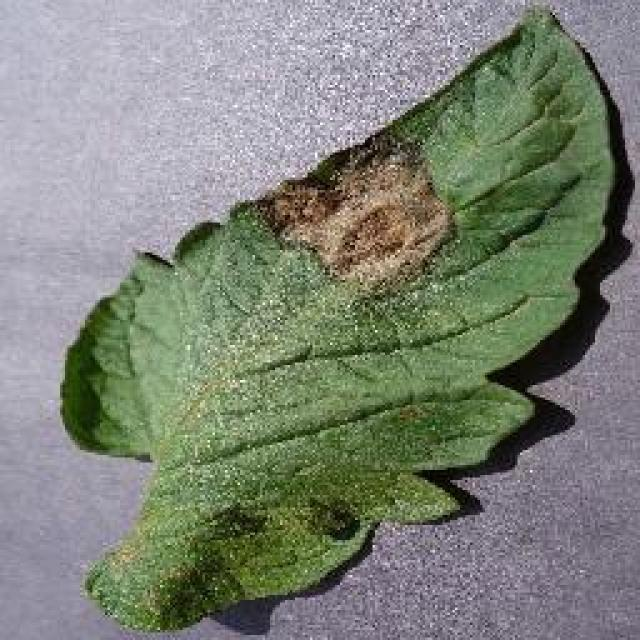Tomato late blight leaf: (56, 0, 617, 633)
